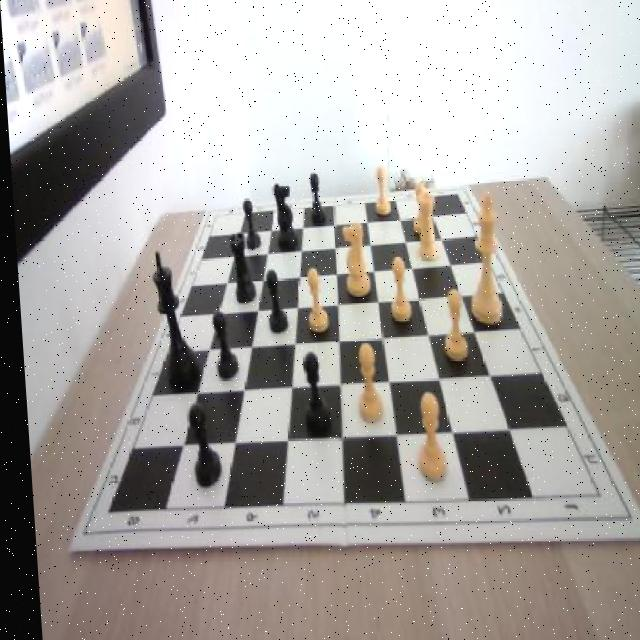black-bishop: (146, 252, 194, 388)
black-king: (270, 180, 295, 252)
black-knight: (183, 403, 216, 487), (296, 354, 326, 434), (208, 311, 235, 380), (259, 268, 284, 335), (240, 198, 258, 252), (304, 171, 322, 221)
black-queen: (221, 228, 251, 304)
white-bishop: (460, 196, 500, 326)
white-king: (338, 220, 368, 298)
white-knight: (407, 392, 444, 482), (345, 340, 381, 425), (435, 288, 467, 364), (383, 257, 411, 325), (299, 266, 324, 332), (369, 168, 390, 216), (407, 183, 427, 233)
white-queen: (410, 191, 437, 261)
